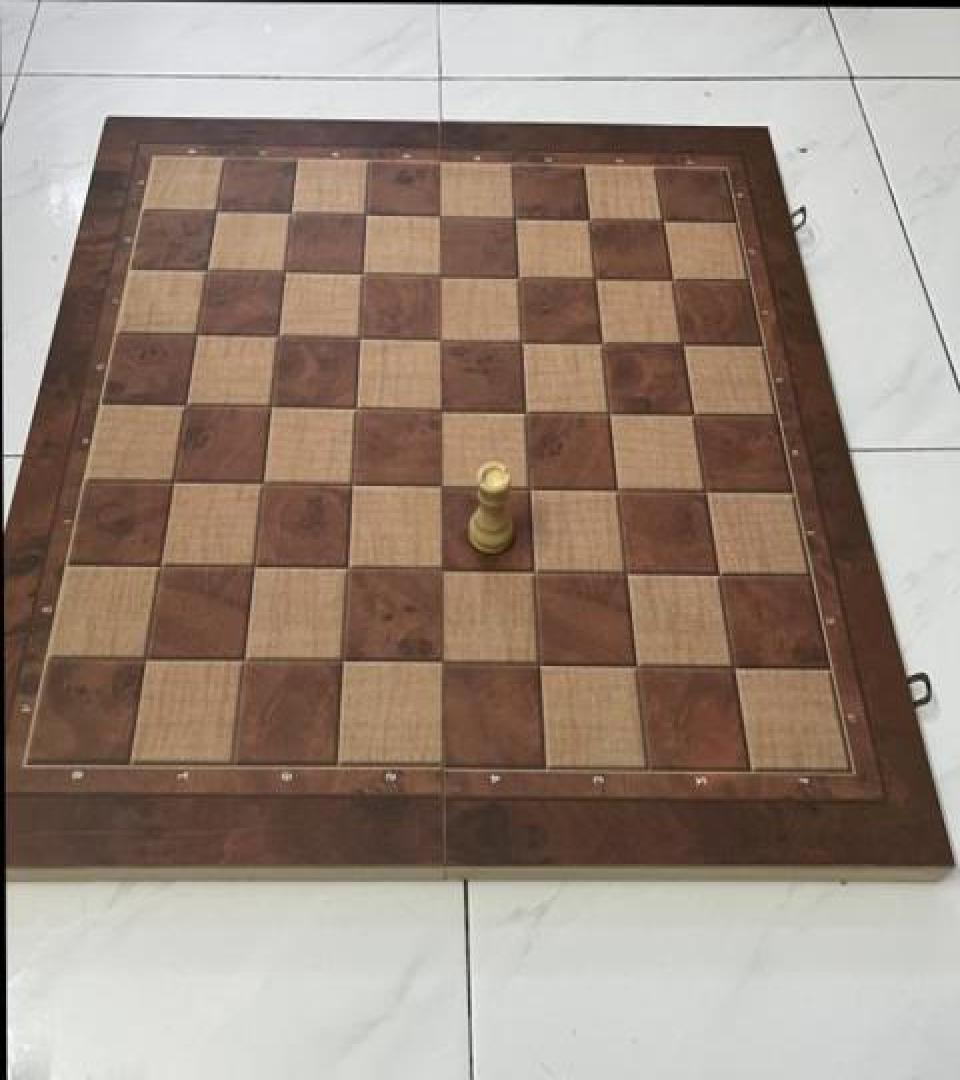xcorner: (572, 201, 606, 240), (263, 317, 297, 356), (426, 642, 460, 681), (200, 192, 234, 230), (275, 194, 309, 232), (350, 196, 384, 234), (424, 198, 458, 236), (498, 199, 532, 237), (645, 204, 679, 242), (191, 251, 225, 289), (270, 253, 304, 291), (347, 255, 381, 293), (425, 256, 459, 294), (501, 259, 535, 297), (578, 261, 612, 299), (654, 262, 688, 300), (182, 315, 216, 353), (344, 318, 378, 356), (425, 321, 459, 359), (505, 323, 539, 361), (585, 324, 619, 362), (664, 326, 698, 364), (171, 385, 205, 423), (256, 387, 290, 425), (341, 388, 375, 426), (425, 390, 459, 428), (509, 393, 543, 431), (592, 394, 626, 432), (675, 396, 709, 434), (160, 462, 194, 500), (249, 464, 283, 502), (337, 465, 371, 503), (425, 467, 459, 505), (513, 468, 547, 506), (600, 470, 634, 508), (687, 472, 721, 510), (147, 546, 181, 584), (240, 548, 274, 586), (333, 549, 367, 587), (426, 550, 460, 588), (518, 552, 552, 590), (609, 554, 643, 592), (700, 555, 734, 593), (133, 639, 167, 677), (231, 640, 265, 678), (329, 642, 363, 680), (523, 645, 557, 683), (619, 646, 653, 684), (715, 647, 749, 685)
